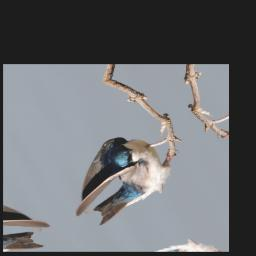Swallow: (44, 120, 201, 233)
